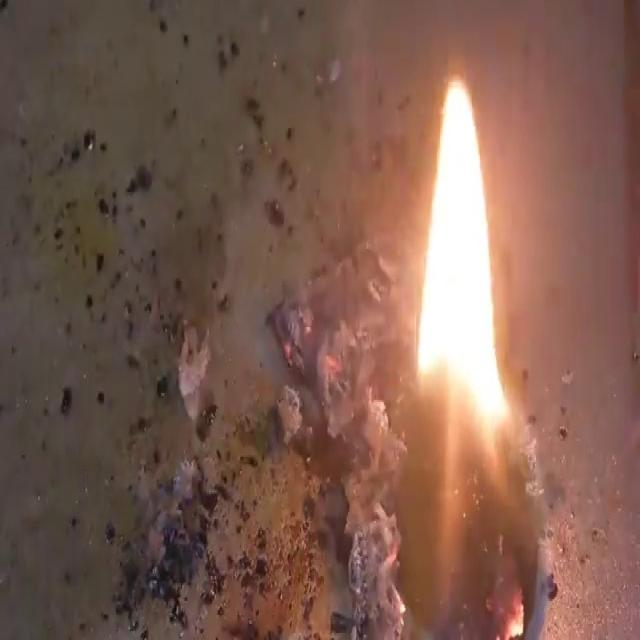Fire: (4, 4, 635, 636), (412, 71, 513, 445)
